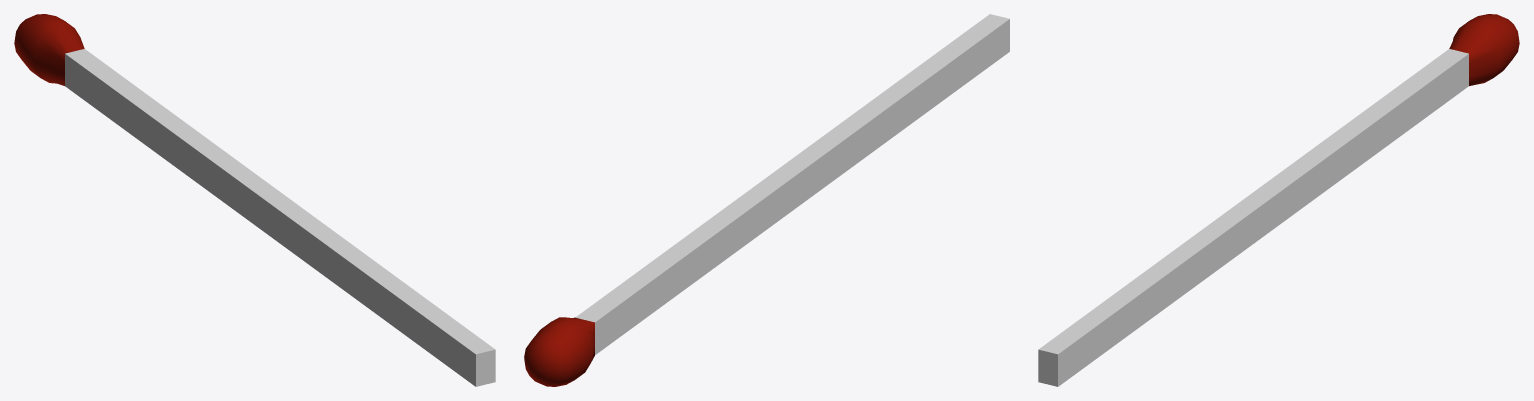
File: Match.fbx
3 views of the same model, side by side, from view 1: azimuth 30°, elevation 25°; view 2: azimuth 150°, elevation 25°; view 3: azimuth 330°, elevation 25° (orthographic).
Parts seen in each view (by area): view 1: Match; view 2: Match; view 3: Match.
Boxes of the visible parts, <box> form: Match: <box>14,14,495,386</box>; Match: <box>524,14,1009,386</box>; Match: <box>1038,14,1519,386</box>.
Size of the model in its own units: 0.2497 by 0.2913 by 4.1.
